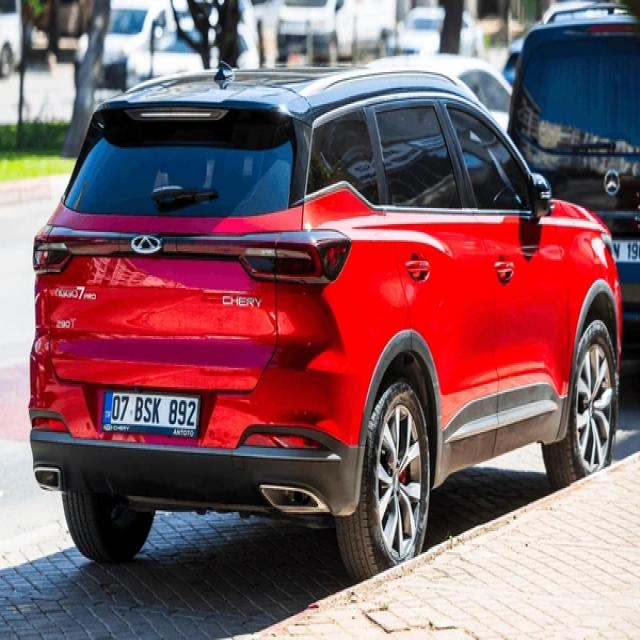citroen: (126, 227, 166, 262)
